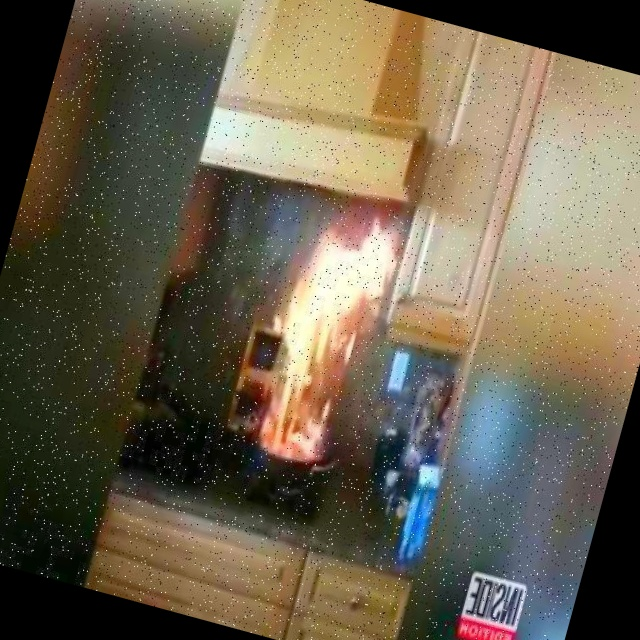fire: (214, 180, 431, 502)
